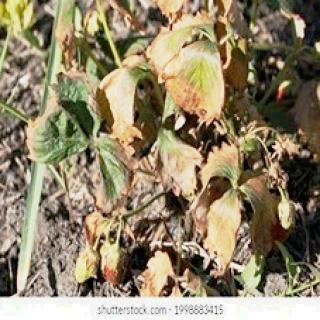wilt: (99, 21, 229, 131), (155, 139, 284, 249), (76, 218, 170, 292)
